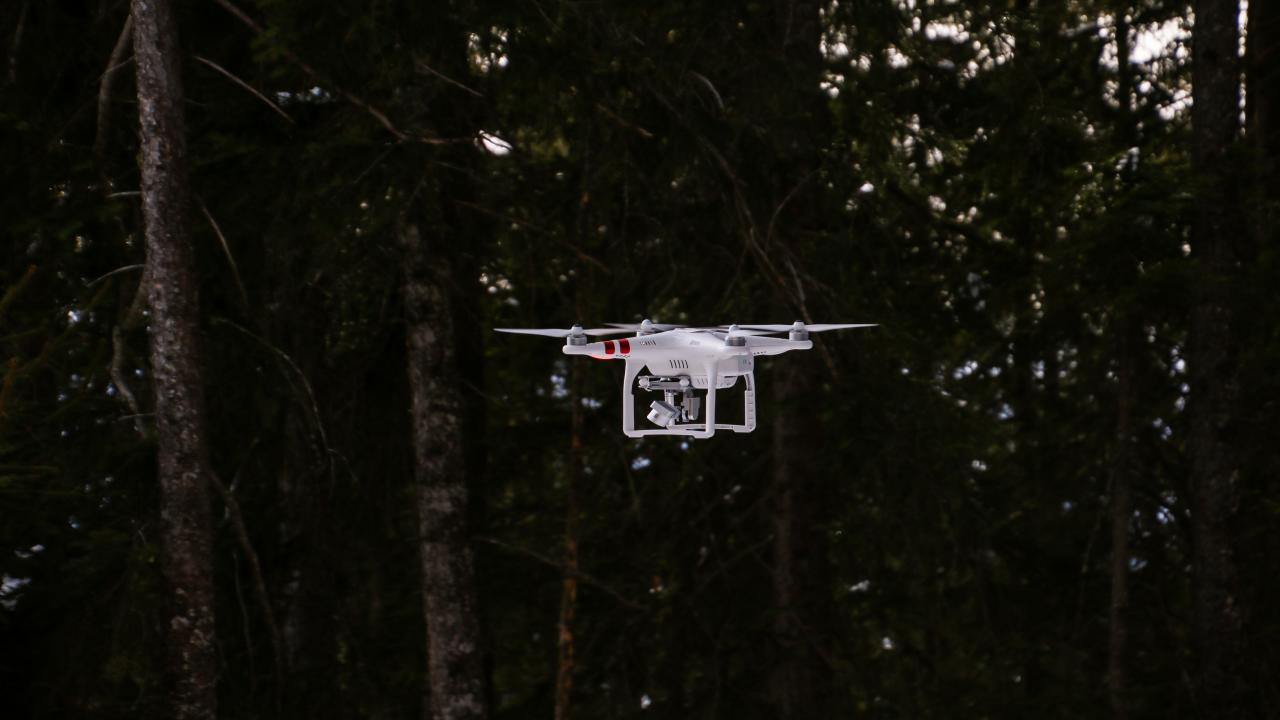Drone: (478, 300, 894, 453)
